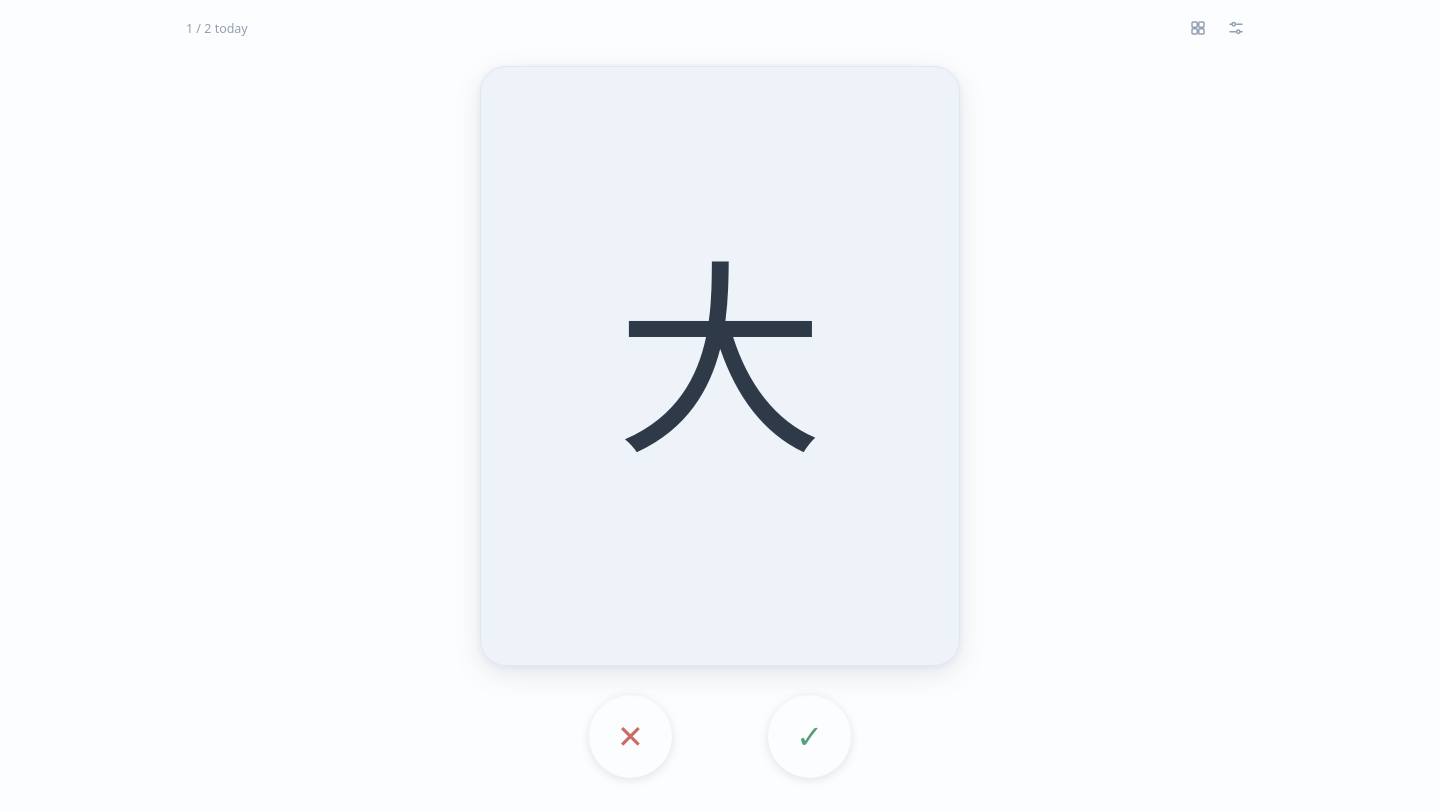
typing test › asks for kana instead of rōmaji when kanji input is set to kana
This screenshot has width=1440, height=810.
Click the button named "I know this" at coordinates (810, 736), box [768,695,851,778]
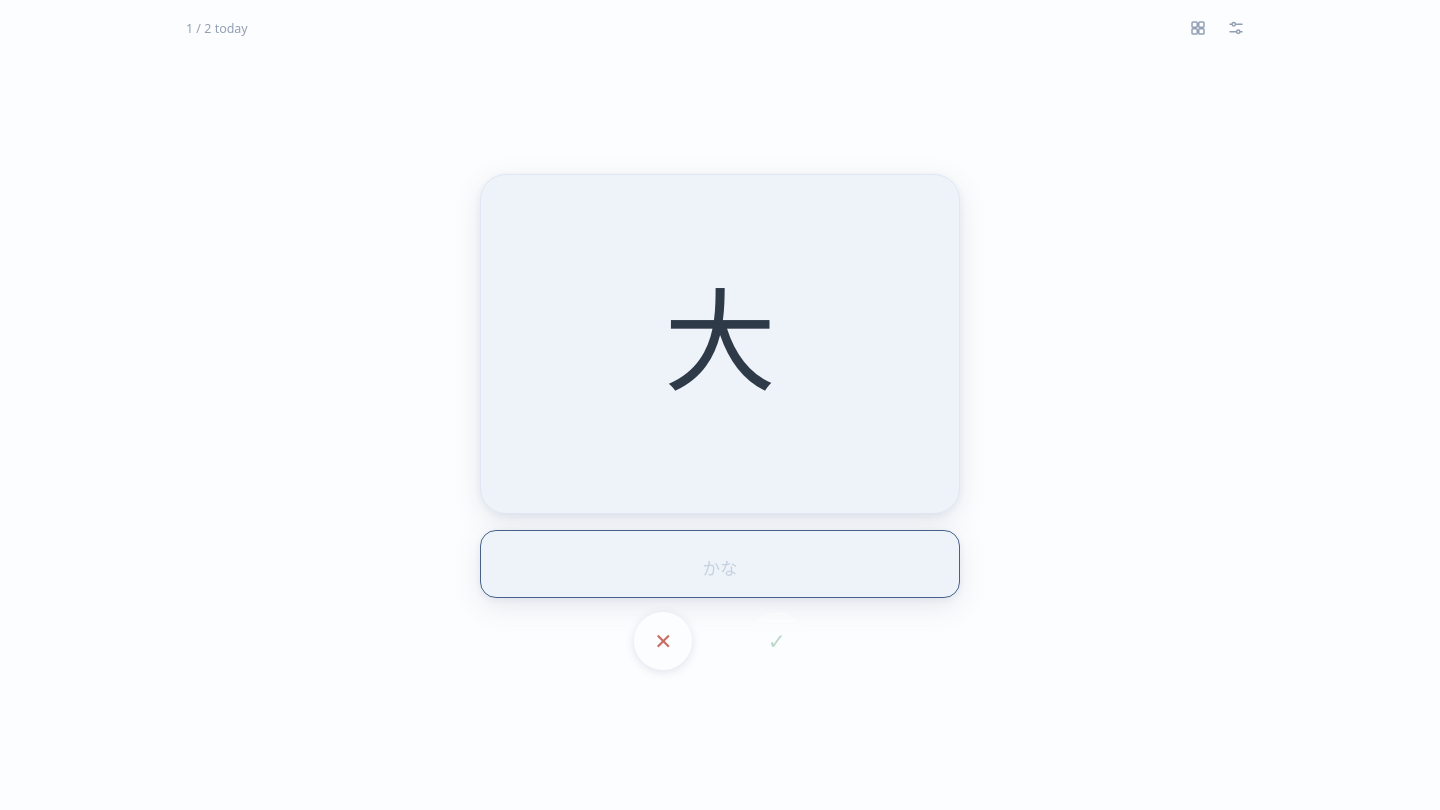
Result: the field named "Type the reading in kana" is shown at [480,530,960,598]
